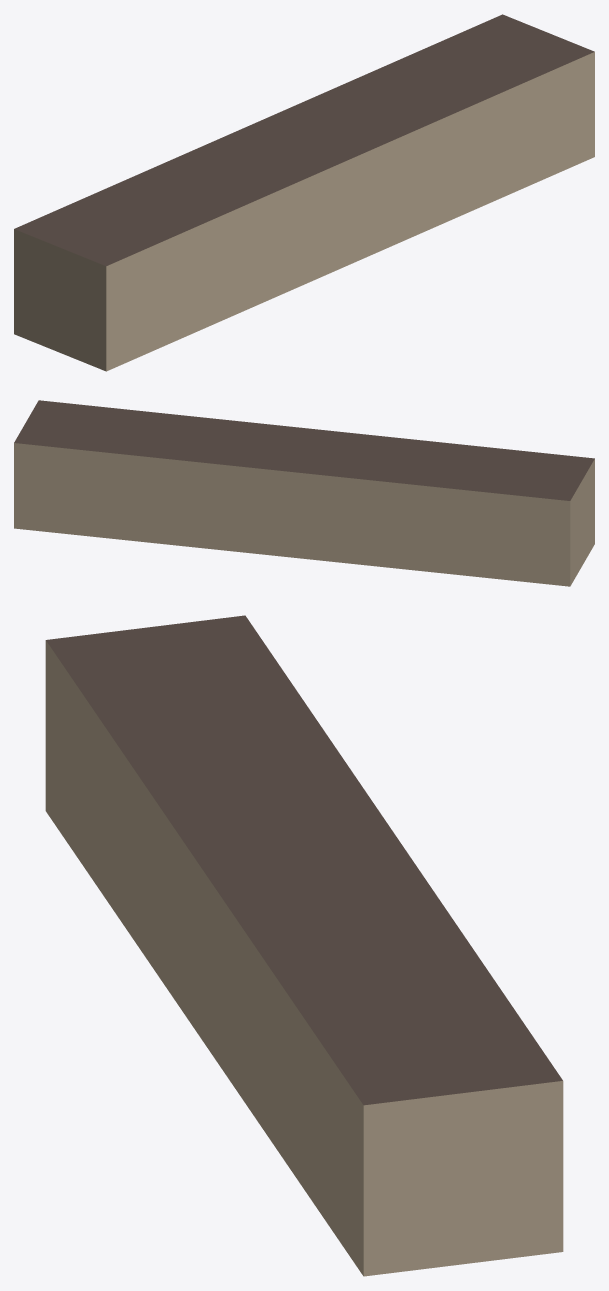
The picture shows the model from 3 angles, top to bottom: view 1: azimuth 30°, elevation 25°; view 2: azimuth 150°, elevation 25°; view 3: azimuth 270°, elevation 25°; orthographic projection. The views are drawn at different scales.
Visible parts, largest first — view 1: HP-w1202494180; view 2: HP-w1202494180; view 3: HP-w1202494180.
Boxes of the visible parts, left/top/right/bottom form: HP-w1202494180: left=14, top=14, right=594, bottom=371; HP-w1202494180: left=14, top=400, right=594, bottom=586; HP-w1202494180: left=45, top=615, right=563, bottom=1276.
Bounding box in the file's own units: 55.25 × 9 × 24.66.
